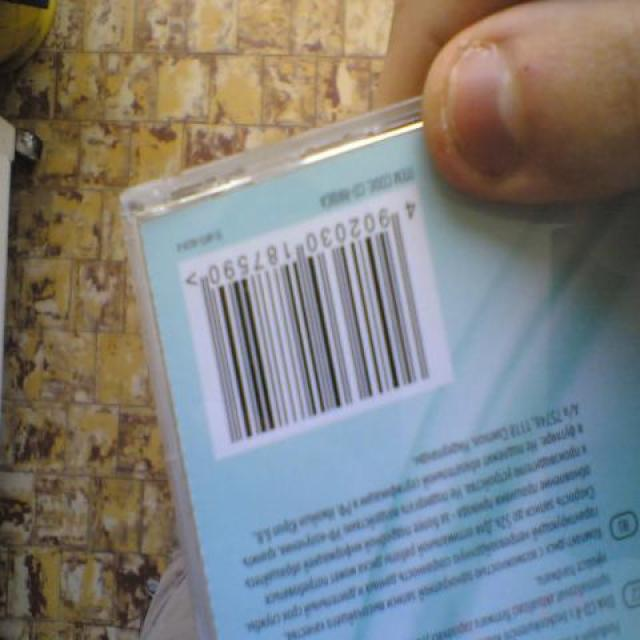Barcode: (181, 180, 455, 457)
